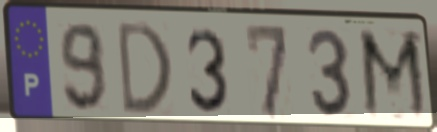3: (306, 26, 357, 121), (184, 25, 230, 116)
7: (242, 21, 291, 123)
9: (58, 20, 111, 114)
D: (115, 18, 174, 118)
M: (355, 26, 433, 124)
